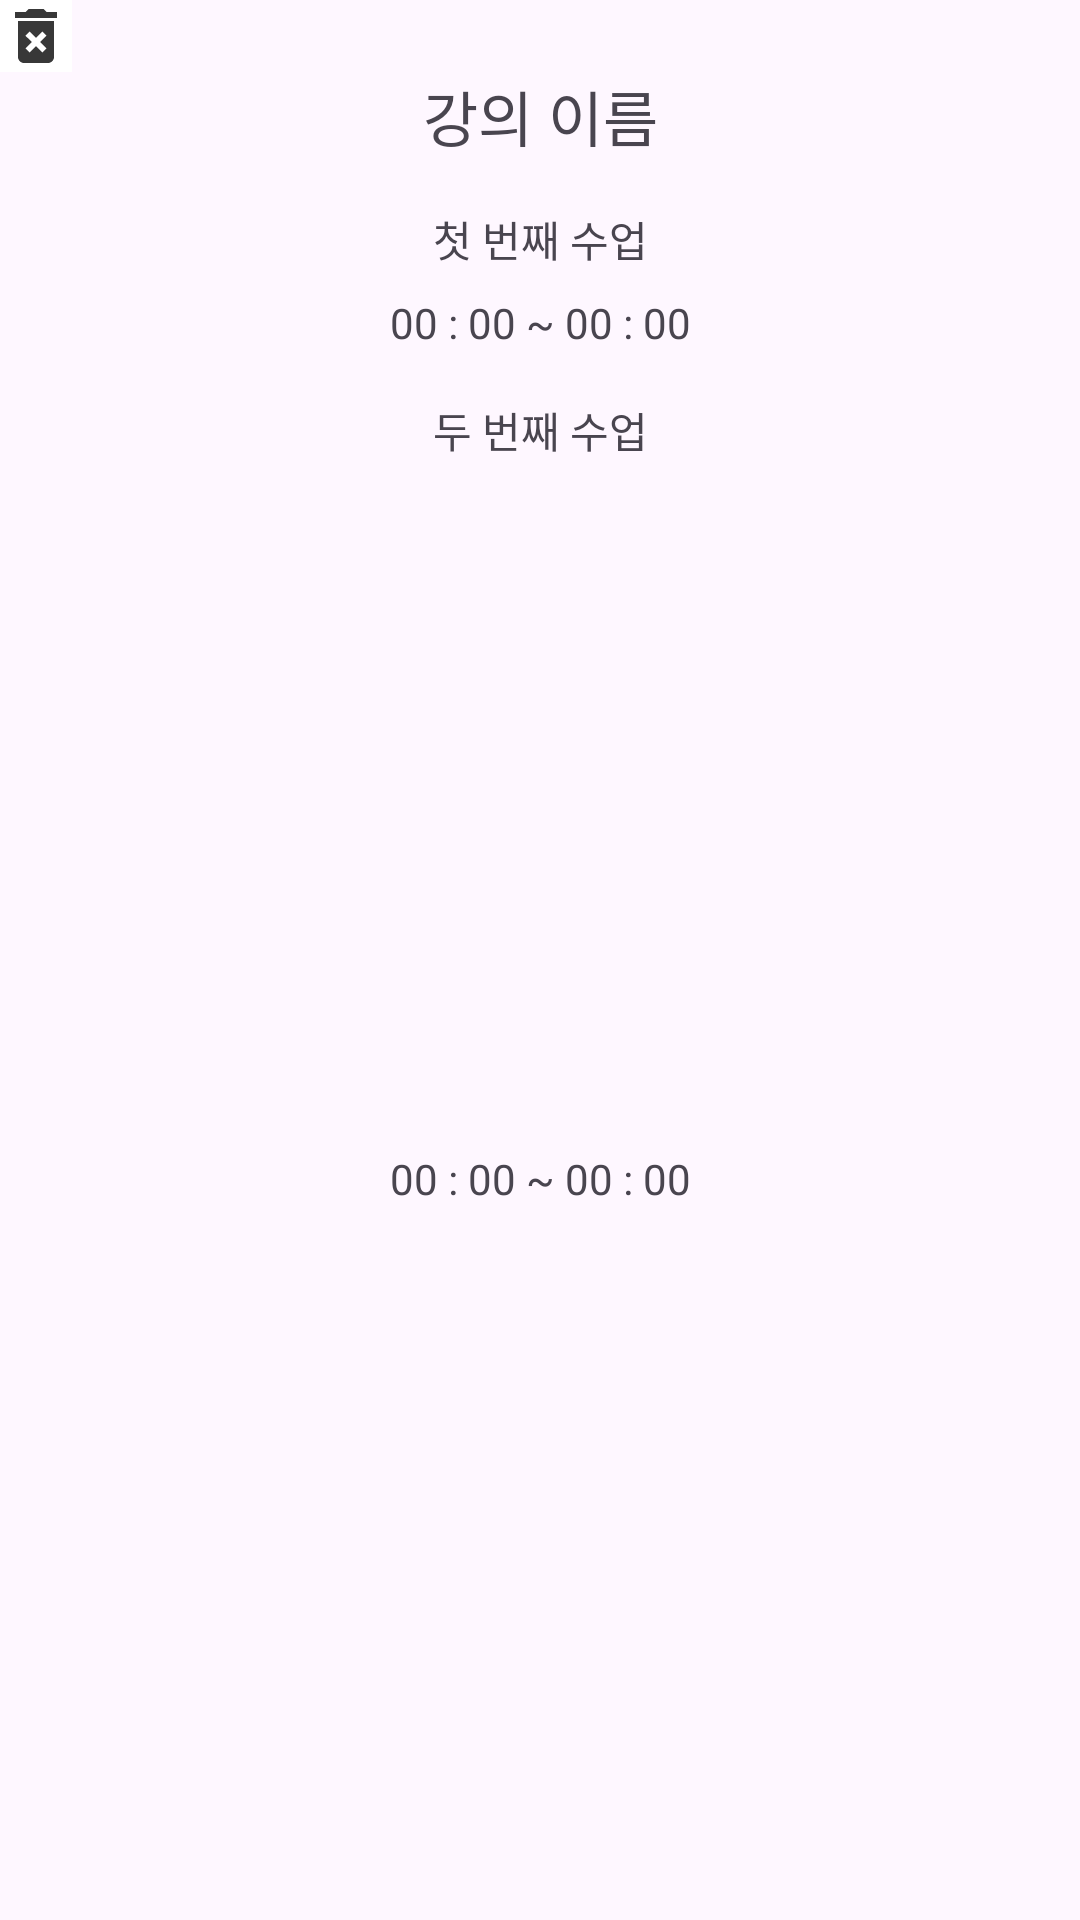

Screen size 1080×1920. Icon name, then its center in pixels as (x,y):
trashcan: (36,36)
